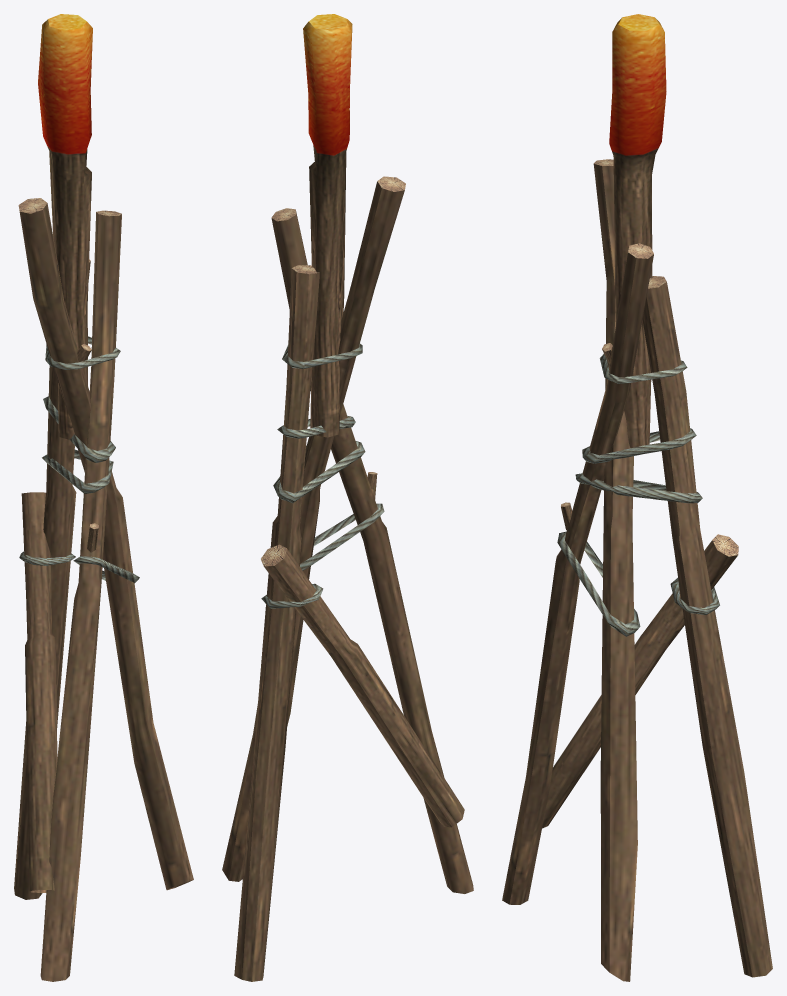
Rendered from environment_stone_qiaobi_002_a.FBX.
The picture shows the model from 3 angles, left to right: view 1: azimuth 30°, elevation 25°; view 2: azimuth 150°, elevation 25°; view 3: azimuth 270°, elevation 25°; orthographic projection. The views are drawn at different scales.
Parts seen in each view (by area): view 1: environment_stone_qiaobi_002_a; view 2: environment_stone_qiaobi_002_a; view 3: environment_stone_qiaobi_002_a.
Boxes of the visible parts, bbox=[...] form: environment_stone_qiaobi_002_a: bbox=[14, 14, 193, 981]; environment_stone_qiaobi_002_a: bbox=[222, 14, 473, 981]; environment_stone_qiaobi_002_a: bbox=[502, 14, 772, 981].
Bounding box in the file's own units: 65.17 × 286 × 74.8.
Materials: 1 (1 with a texture image).
